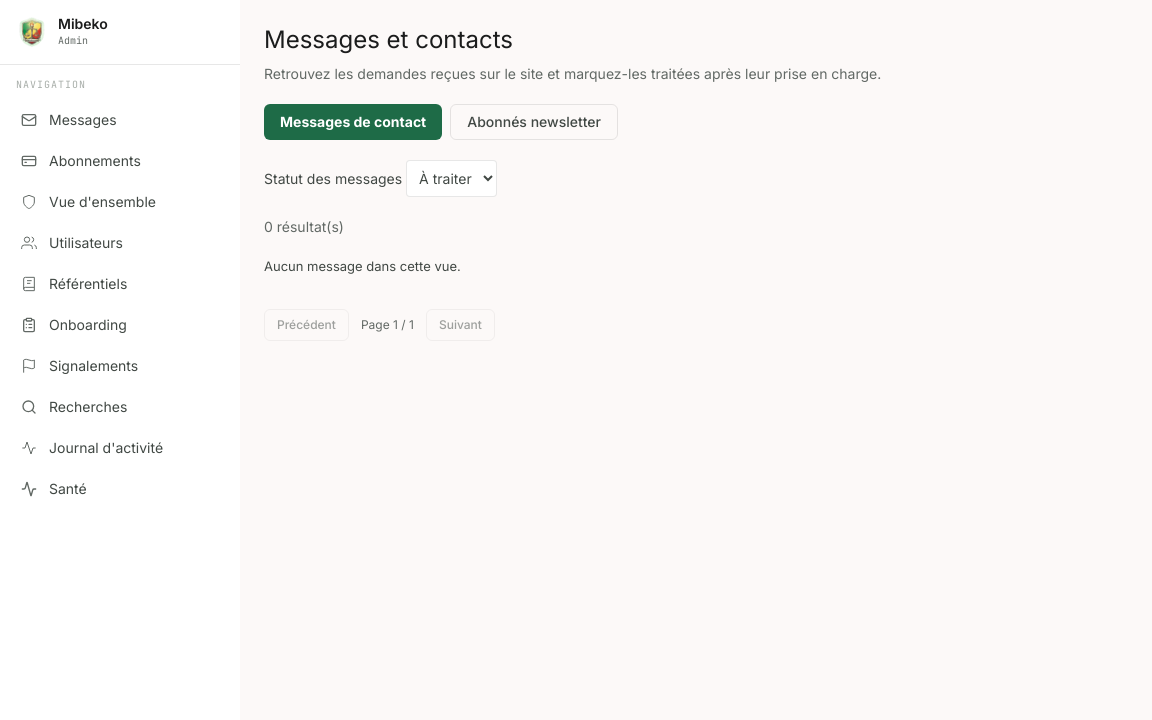
pagine la newsletter et signale un échec de l’export complet
Click the button "Abonnés newsletter".
click(534, 122)  # box [450,104,618,140]
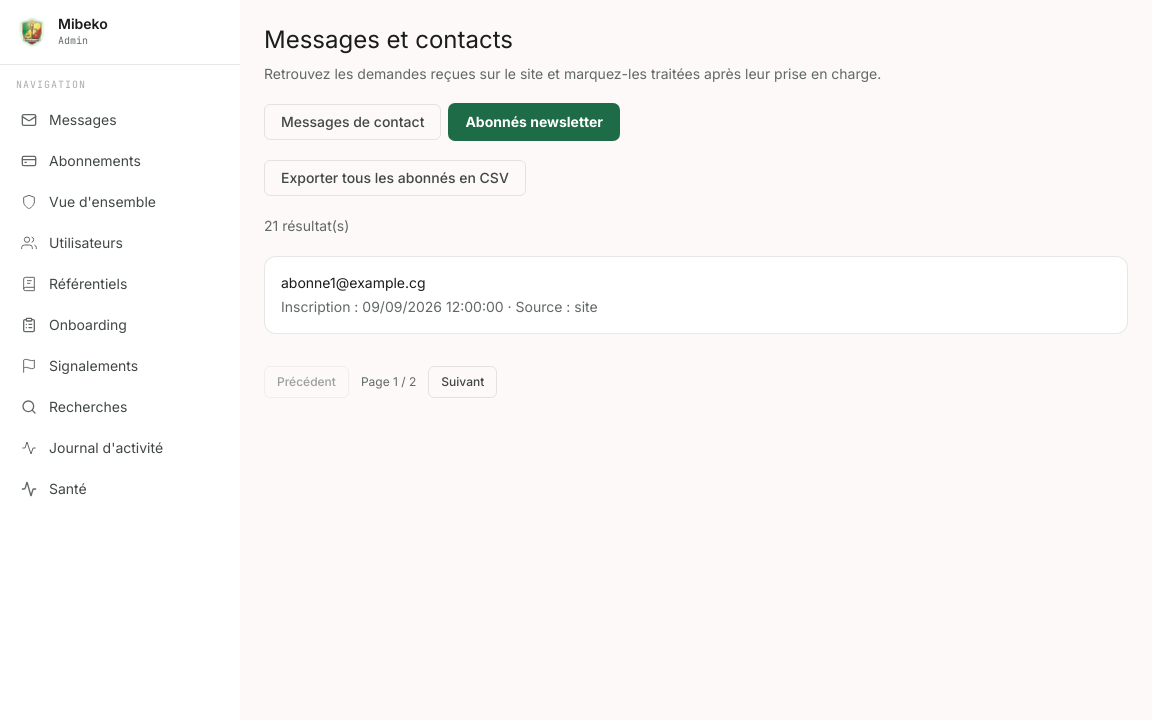
Now the text "abonne1@example.cg" is shown, box [281,274,426,291]
Click the button "Suivant".
click(463, 382)  # box [428,366,497,398]
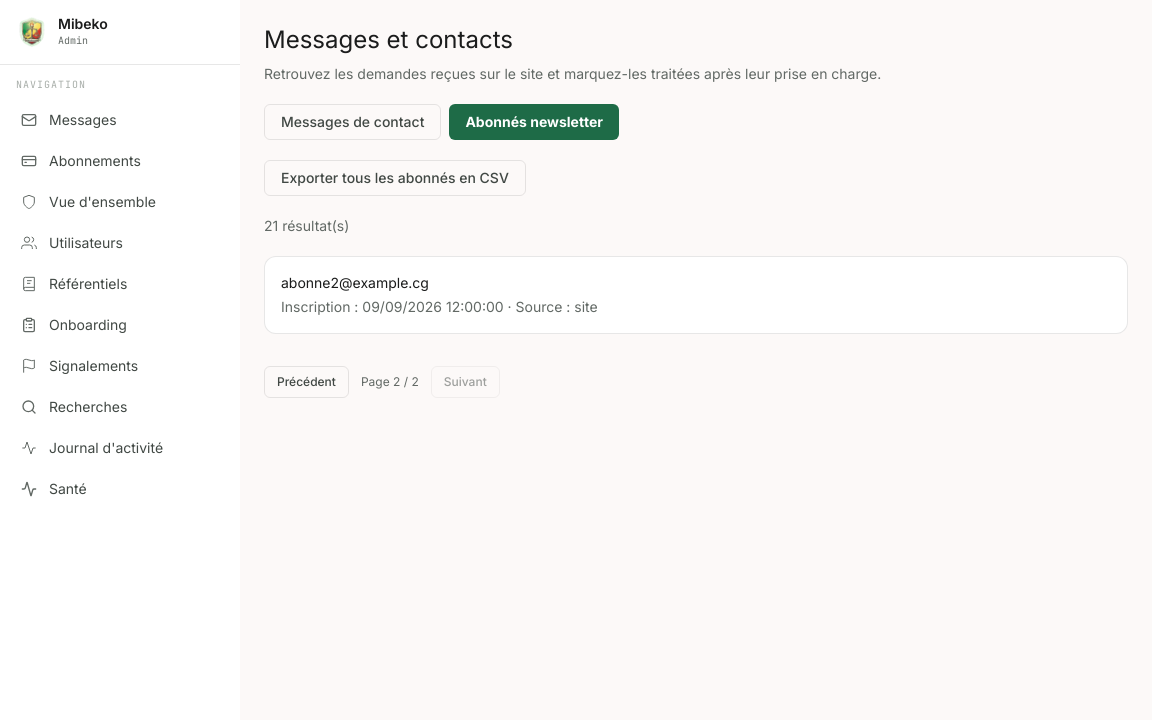
Now the text "abonne2@example.cg" is shown, box [281,274,429,291]
Click the button "Exporter tous les abonnés en CSV".
click(395, 178)  # box [264,160,526,196]
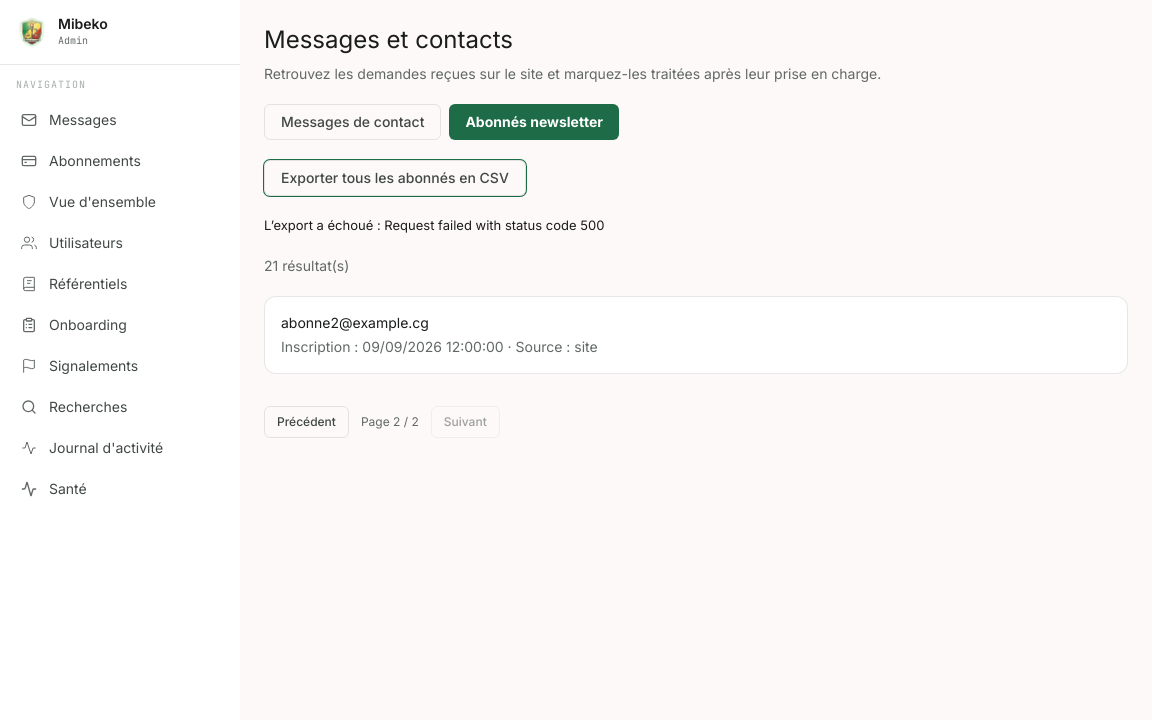
Now the text "L’export a échoué : Request failed with status code 500" is shown, box [264,217,604,233]
